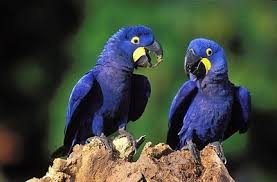guacamaya: (63, 23, 164, 151), (166, 29, 256, 172)
